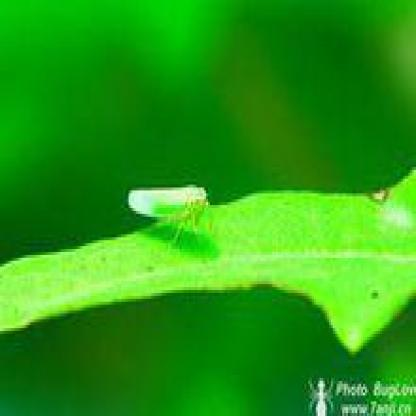Green-Leafhopper: (128, 183, 211, 260)
